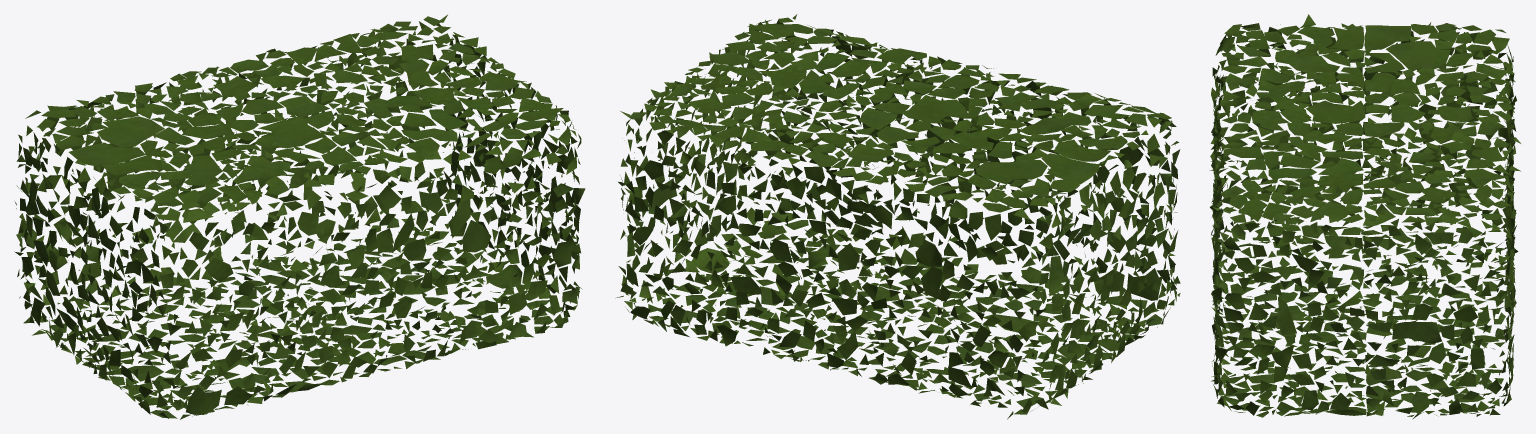
File: hedge_p.glb
3 views of the same model, side by side, from view 1: azimuth 30°, elevation 25°; view 2: azimuth 150°, elevation 25°; view 3: azimuth 270°, elevation 25° (orthographic). The views are drawn at different scales.
Visible parts, largest first — view 1: Mesh_0; view 2: Mesh_0; view 3: Mesh_0.
Boxes of the visible parts, left/top/right/bottom form: Mesh_0: left=14, top=14, right=585, bottom=419; Mesh_0: left=615, top=14, right=1180, bottom=419; Mesh_0: left=1209, top=14, right=1520, bottom=419.
Bounding box in the file's own units: 1.88 × 0.8765 × 1.2.
1 material, 1 textured.
